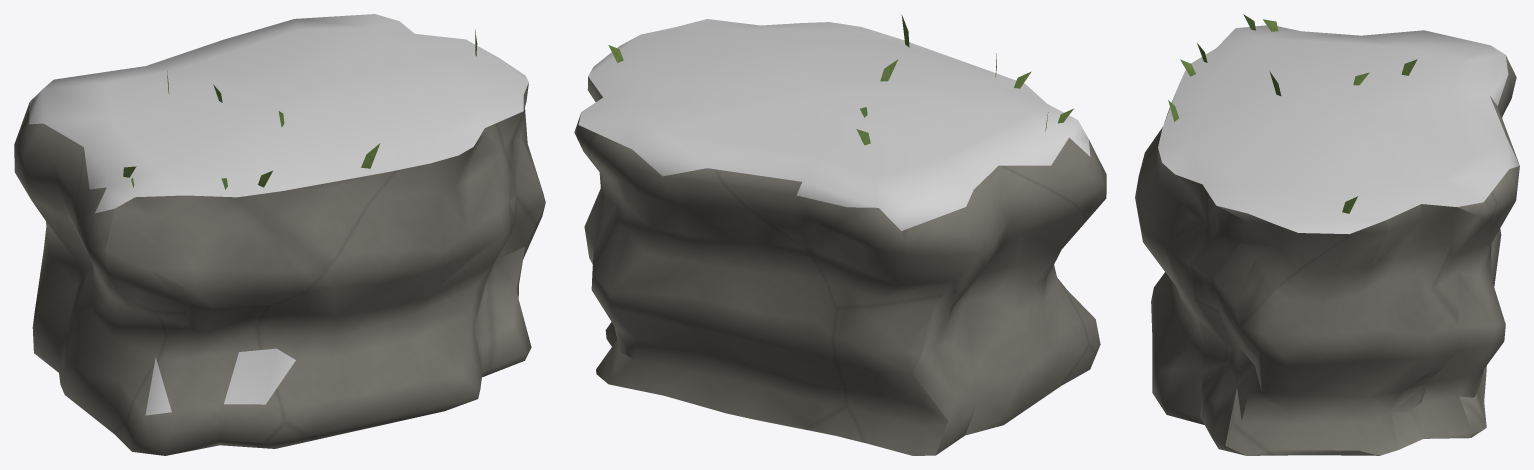
Rendered from Furn_Rock_Shore_A.fbx.
The picture shows the model from 3 angles, left to right: view 1: azimuth 30°, elevation 25°; view 2: azimuth 150°, elevation 25°; view 3: azimuth 270°, elevation 25°; orthographic projection. The views are drawn at different scales.
Visible parts, largest first — view 1: Furn_Rock_Shore_A; view 2: Furn_Rock_Shore_A; view 3: Furn_Rock_Shore_A.
Boxes of the visible parts, box(x1,y1,x2,y2) form: Furn_Rock_Shore_A: box(14, 14, 545, 455); Furn_Rock_Shore_A: box(574, 14, 1106, 455); Furn_Rock_Shore_A: box(1135, 14, 1519, 455).
Bounding box in the file's own units: 4 × 2.5 × 3.
